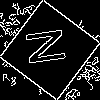N: (25, 25, 76, 67)
